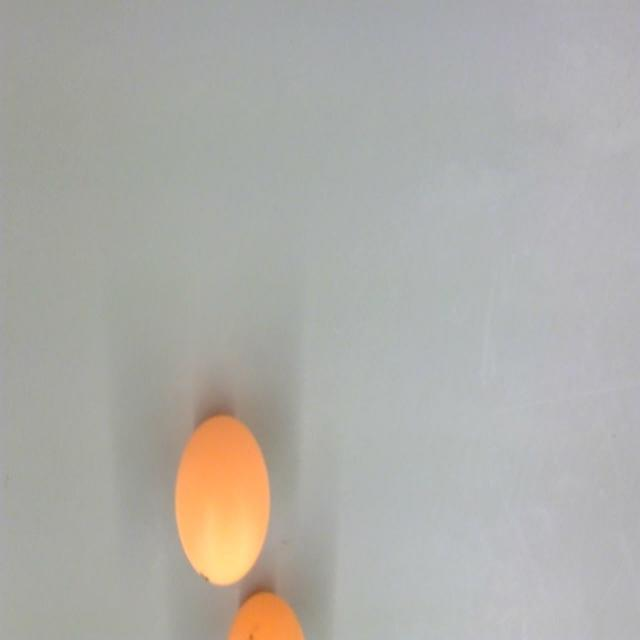ball: (175, 409, 272, 591), (228, 589, 306, 640)
